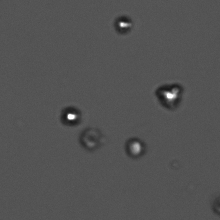Dead Cell: (79, 123, 104, 153)
Living Cell: (151, 79, 183, 107), (123, 136, 151, 165), (54, 100, 81, 128), (112, 13, 134, 34)
